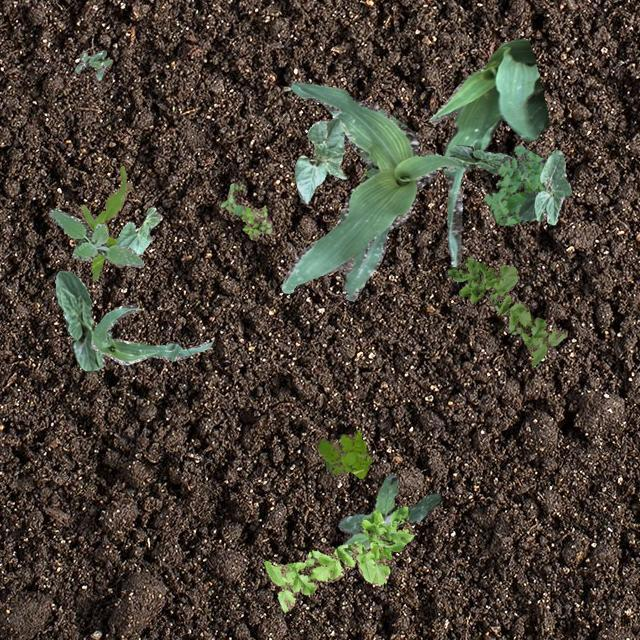crop: (280, 80, 460, 300), (428, 38, 548, 266), (90, 304, 210, 364), (80, 164, 130, 278), (54, 270, 104, 370), (294, 116, 346, 202), (516, 148, 570, 224), (115, 206, 161, 254), (447, 144, 511, 172)
weed: (262, 506, 413, 612), (446, 256, 564, 366), (336, 474, 439, 550), (48, 208, 144, 266), (482, 144, 544, 224), (220, 182, 270, 238), (316, 428, 370, 478), (74, 50, 110, 80), (360, 168, 366, 178)
